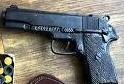gun: (1, 1, 124, 84)
